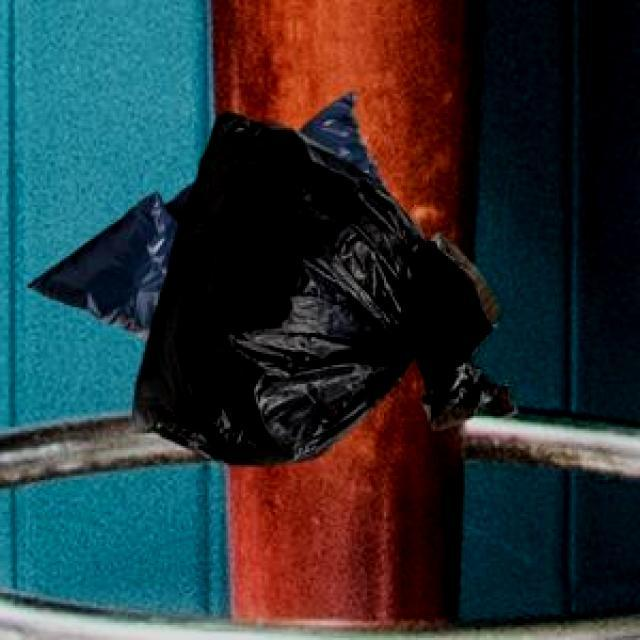Trashbag: (132, 105, 522, 471)
